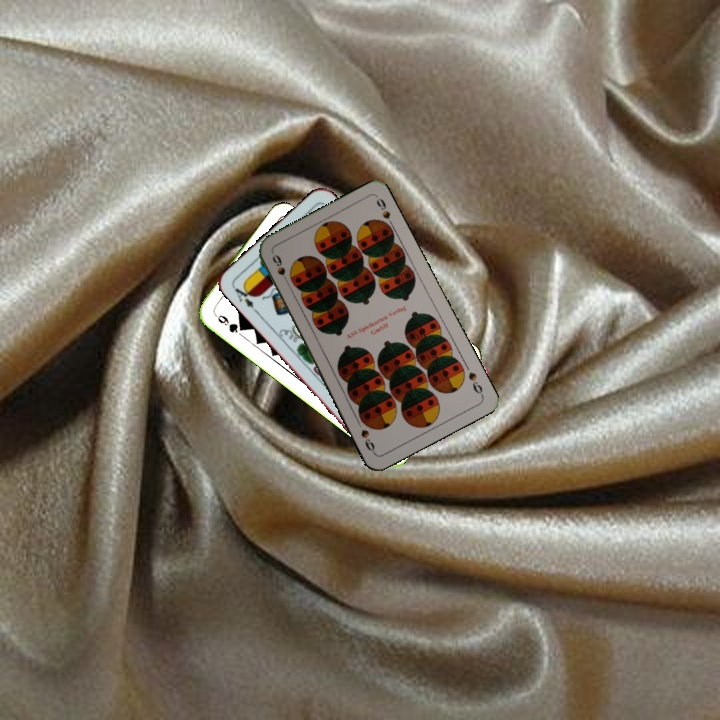EA: (229, 280, 257, 311)
G9: (210, 309, 247, 335)
S9: (268, 250, 292, 288), (464, 368, 486, 399)
